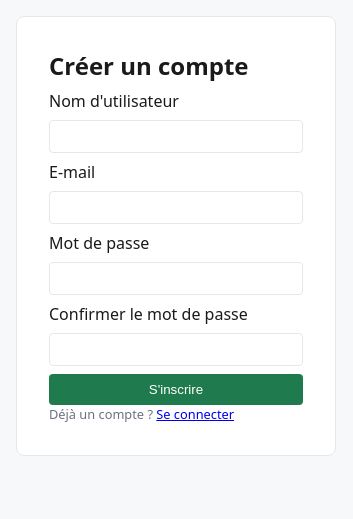
Scenario: Register page › rejects mismatched password confirmation
In the field labelled "Nom d'utilisateur": [176, 136] box top-left (49, 120), bottom-right (303, 153), type "babs"
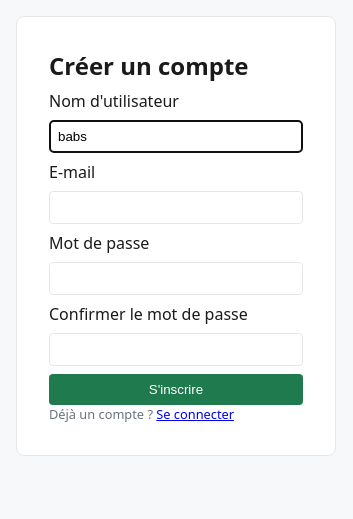
In the field labelled "E-mail": [176, 208] box top-left (49, 191), bottom-right (303, 224), type "babs@example.com"
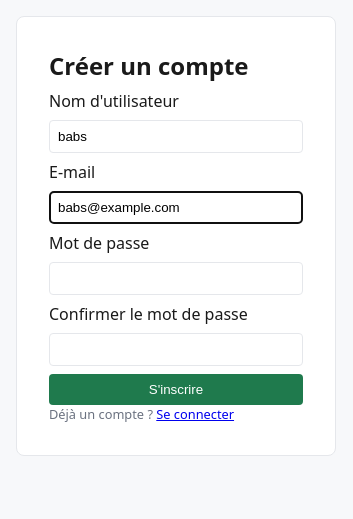
In the password field labelled "Mot de passe": [176, 278] box top-left (49, 262), bottom-right (303, 295), type "secret1"
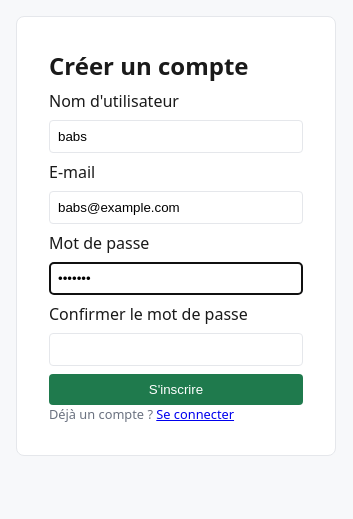
In the password field labelled "Confirmer le mot de passe": [176, 350] box top-left (49, 333), bottom-right (303, 366), type "secret2"
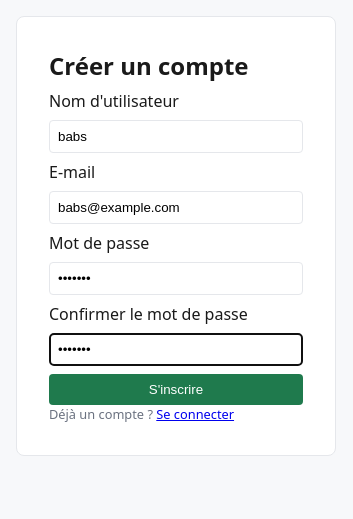
Click the button "S'inscrire": [176, 390] box top-left (49, 374), bottom-right (303, 405)
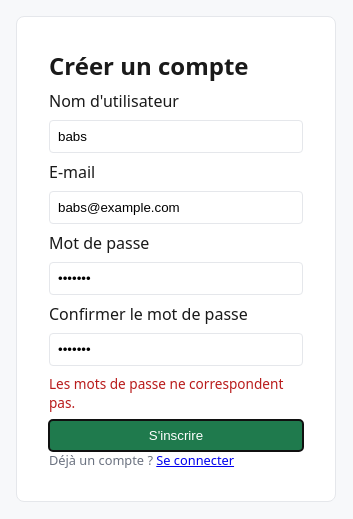
Result: the message shows "ne correspondent pas" at top-left (49, 374), bottom-right (283, 412)
